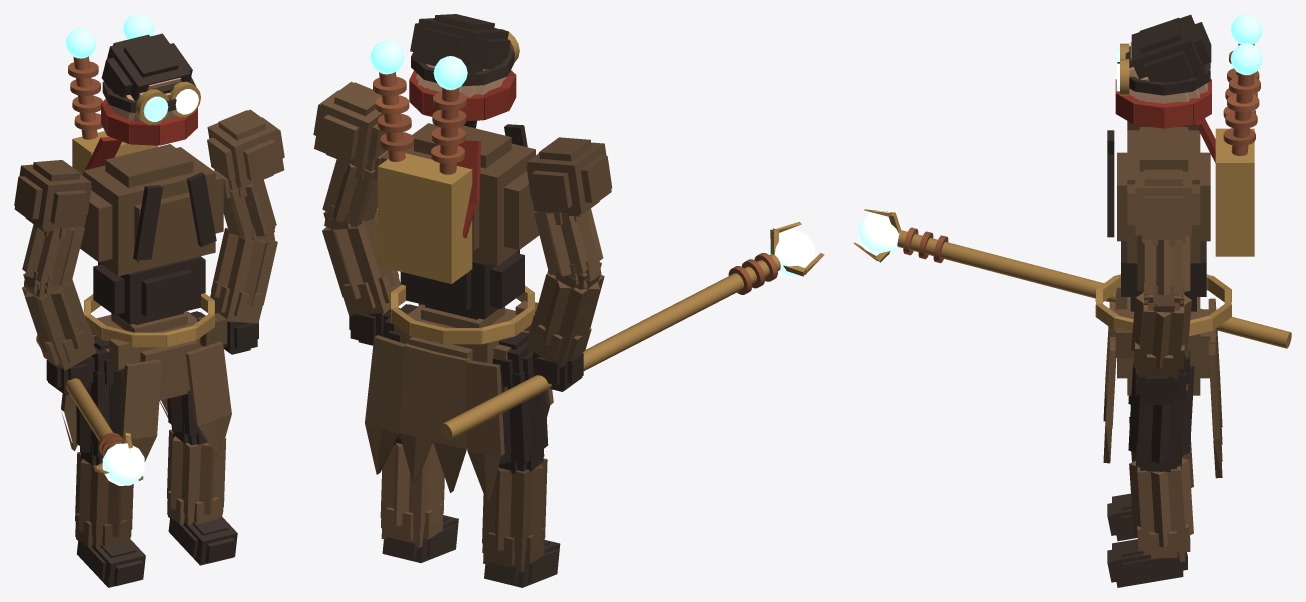
The picture shows the model from 3 angles, left to right: view 1: azimuth 30°, elevation 25°; view 2: azimuth 150°, elevation 25°; view 3: azimuth 270°, elevation 25°; orthographic projection. The views are drawn at different scales.
Parts seen in each view (by area): view 1: TeslaAdept; view 2: TeslaAdept; view 3: TeslaAdept.
Part boxes in pixels (bbox=[...]): TeslaAdept: bbox=[14, 14, 284, 587]; TeslaAdept: bbox=[313, 14, 824, 587]; TeslaAdept: bbox=[853, 14, 1291, 587].
Bounding box in the file's own units: 0.9126 × 1.42 × 1.07.
